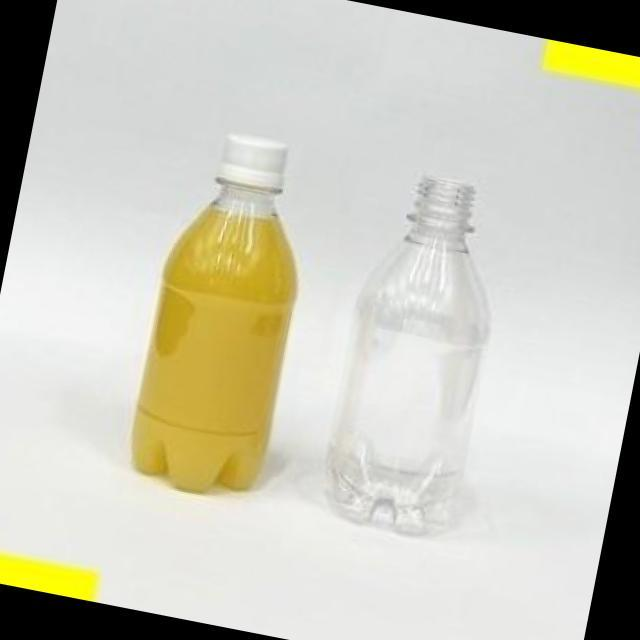good: (89, 92, 355, 536), (284, 145, 540, 561)
